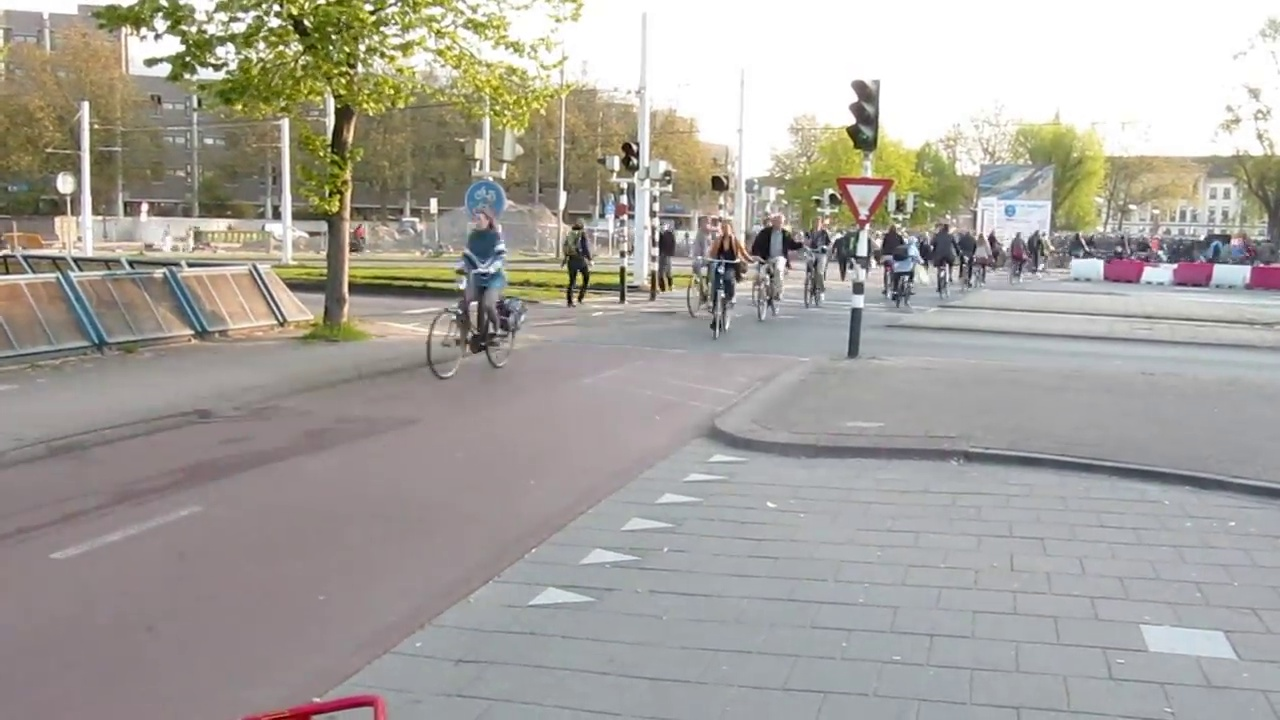cyclist_back: (928, 217, 955, 303), (873, 223, 901, 299), (892, 234, 916, 310), (1005, 228, 1028, 284), (955, 228, 975, 289), (972, 231, 992, 289)
cyclist_front: (427, 200, 526, 371), (751, 212, 790, 321), (706, 218, 738, 340), (688, 212, 715, 320), (800, 214, 828, 307)
